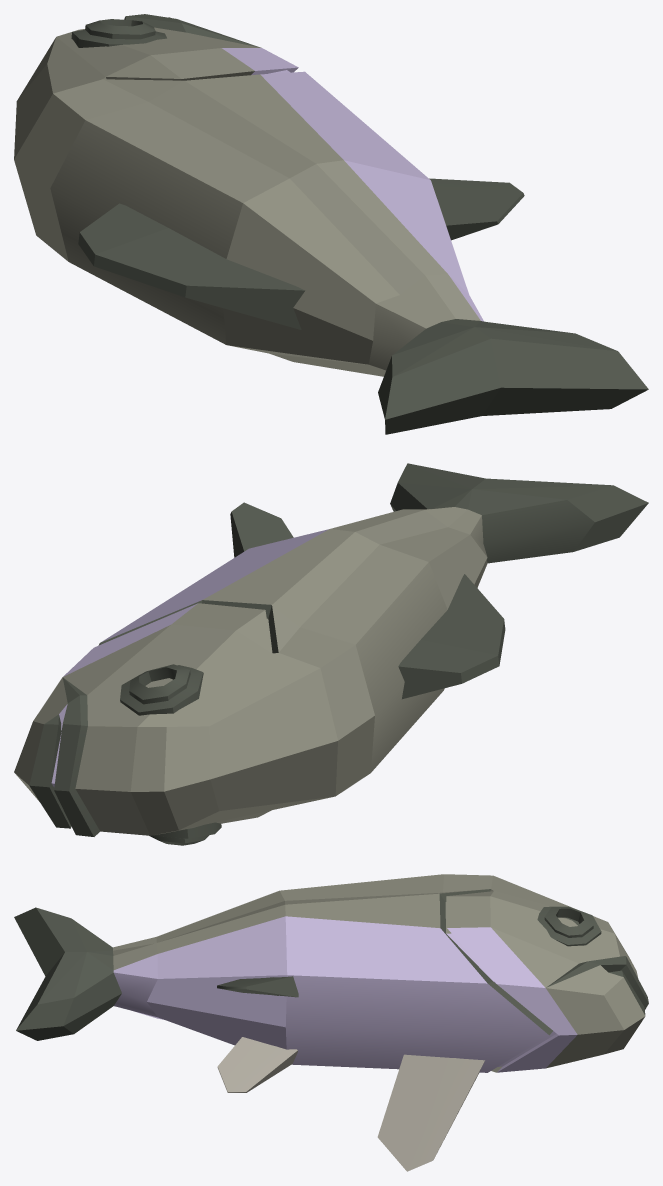
The model's file is food_fish.fbx.
3 renders of one model, top to bottom at view 1: azimuth 30°, elevation 25°; view 2: azimuth 150°, elevation 25°; view 3: azimuth 270°, elevation 25°, orthographic. The views are drawn at different scales.
Visible parts, largest first — view 1: armystuff:footsoldier:armystuff:footsoldier:polySurface1100; view 2: armystuff:footsoldier:armystuff:footsoldier:polySurface1100; view 3: armystuff:footsoldier:armystuff:footsoldier:polySurface1100.
Boxes of the visible parts, left/top/right/bottom form: armystuff:footsoldier:armystuff:footsoldier:polySurface1100: left=14, top=14, right=648, bottom=434; armystuff:footsoldier:armystuff:footsoldier:polySurface1100: left=14, top=463, right=648, bottom=845; armystuff:footsoldier:armystuff:footsoldier:polySurface1100: left=14, top=874, right=648, bottom=1171.
Size of the model in its own units: 64.66 by 52.14 by 140.
1 material, 1 textured.
